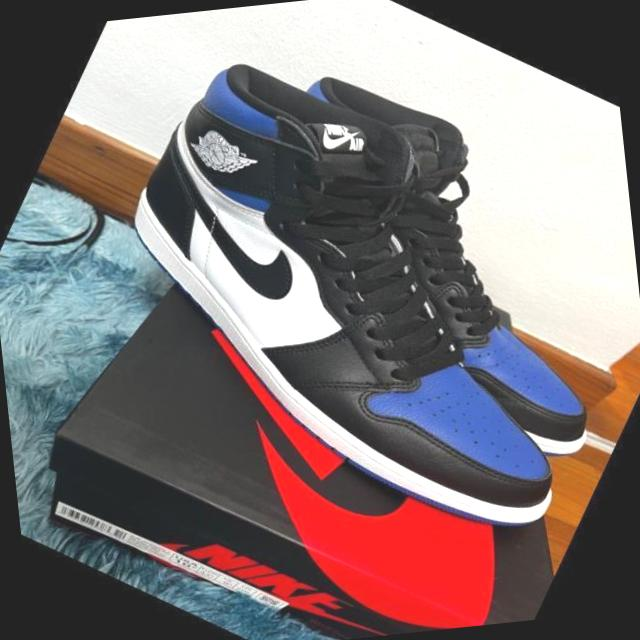nike_original_jordan: (38, 0, 640, 604), (188, 29, 640, 502)
